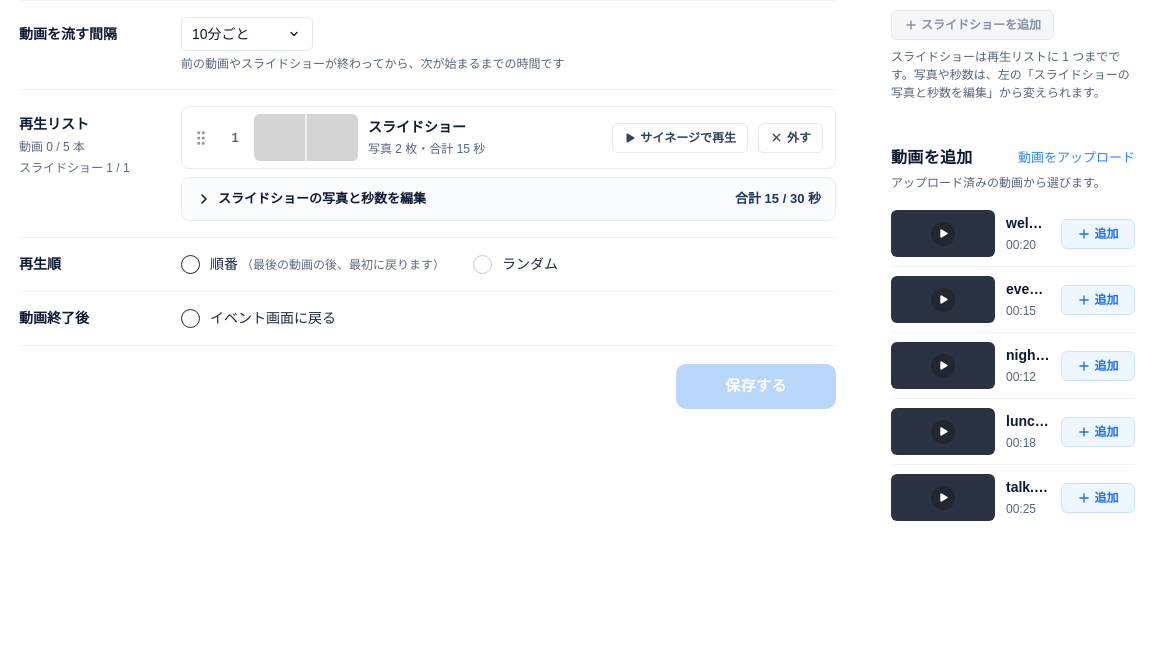
Test: 保存とサイネージで試す › 他の人が先に更新していた（conflict）ときは知らせ、入力は画面に残す
Click the button "スライドショーの写真と秒数を編集" at (322, 199), box [196,178,723,220]
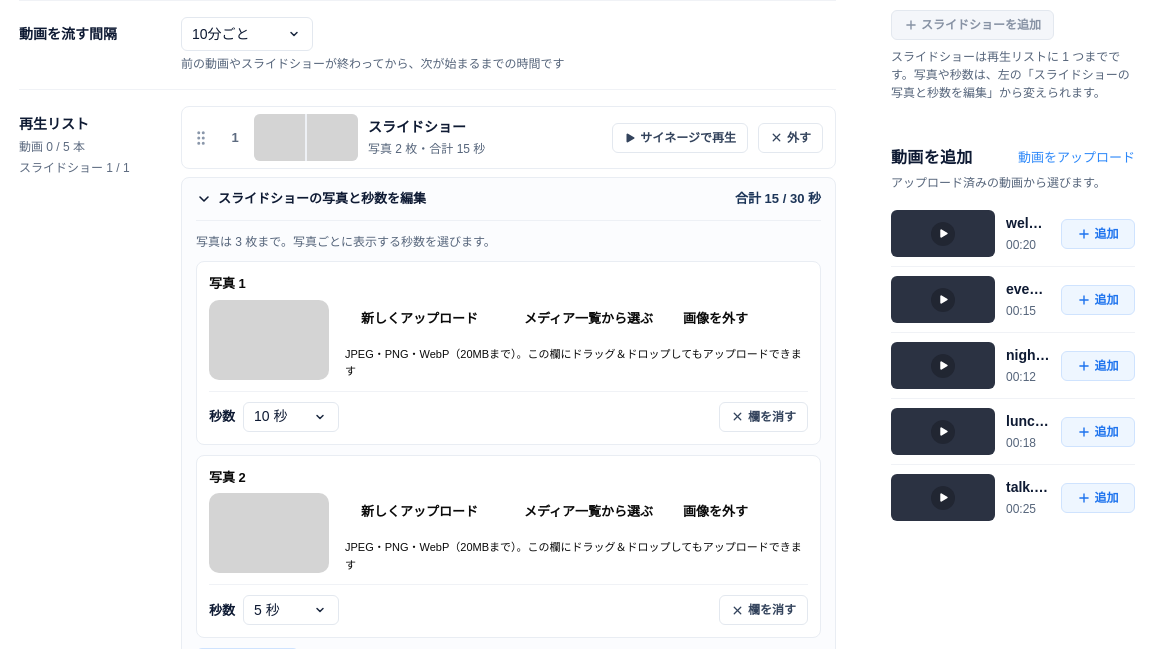
Select "15 秒" in the dropdown named "写真 1 の秒数" at (291, 417), box [243,402,339,432]
(page scrolled)
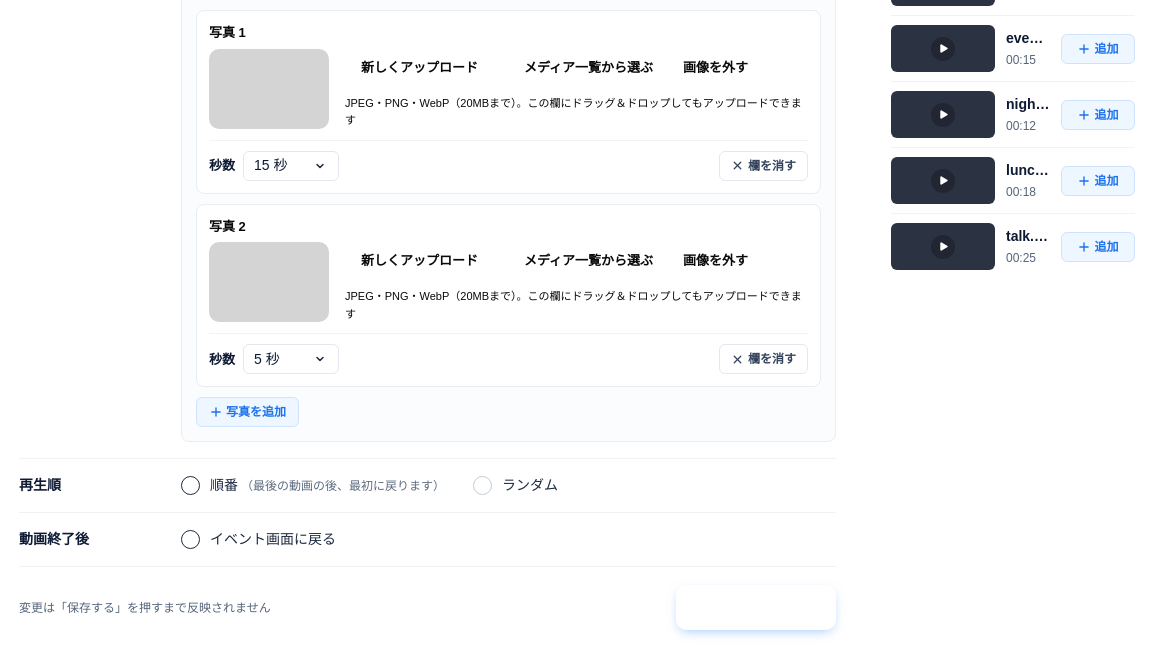
Click the button "保存する" at (756, 608), box [676,585,836,630]
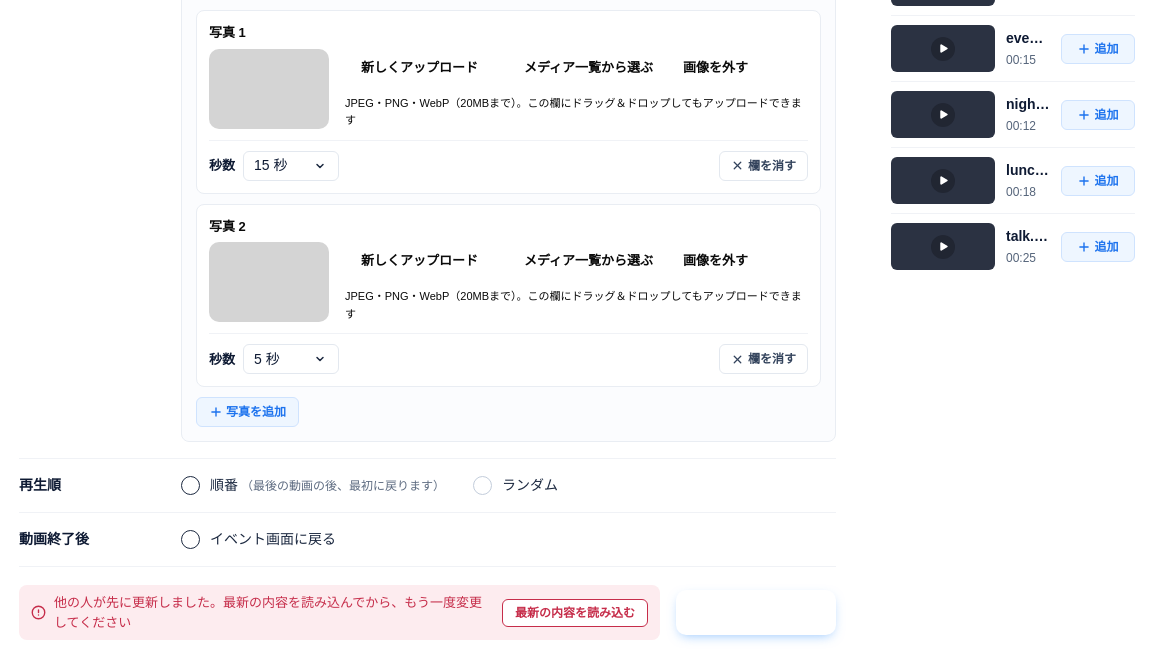
Result: the message shows "他の人が先に更新しました" at [54,595,482,630]
Result: the button "最新の内容を読み込む" is shown at [502,599,648,627]
